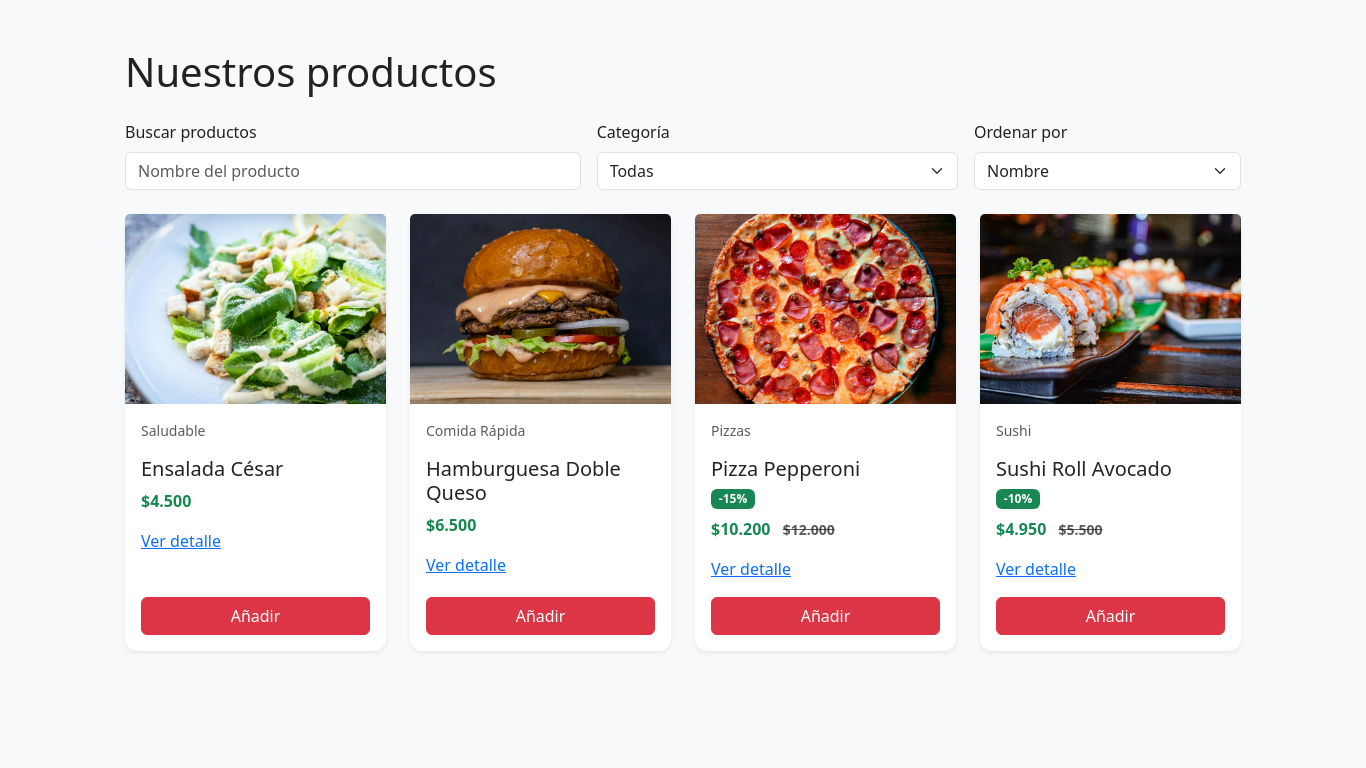
it: Componentes React: renderizado, props, estado y eventos › añadir un producto guarda una línea de carrito
This screenshot has width=1366, height=768.
Click the button "Añadir" below "$4.500" at (256, 616), box left=141, top=597, right=370, bottom=635
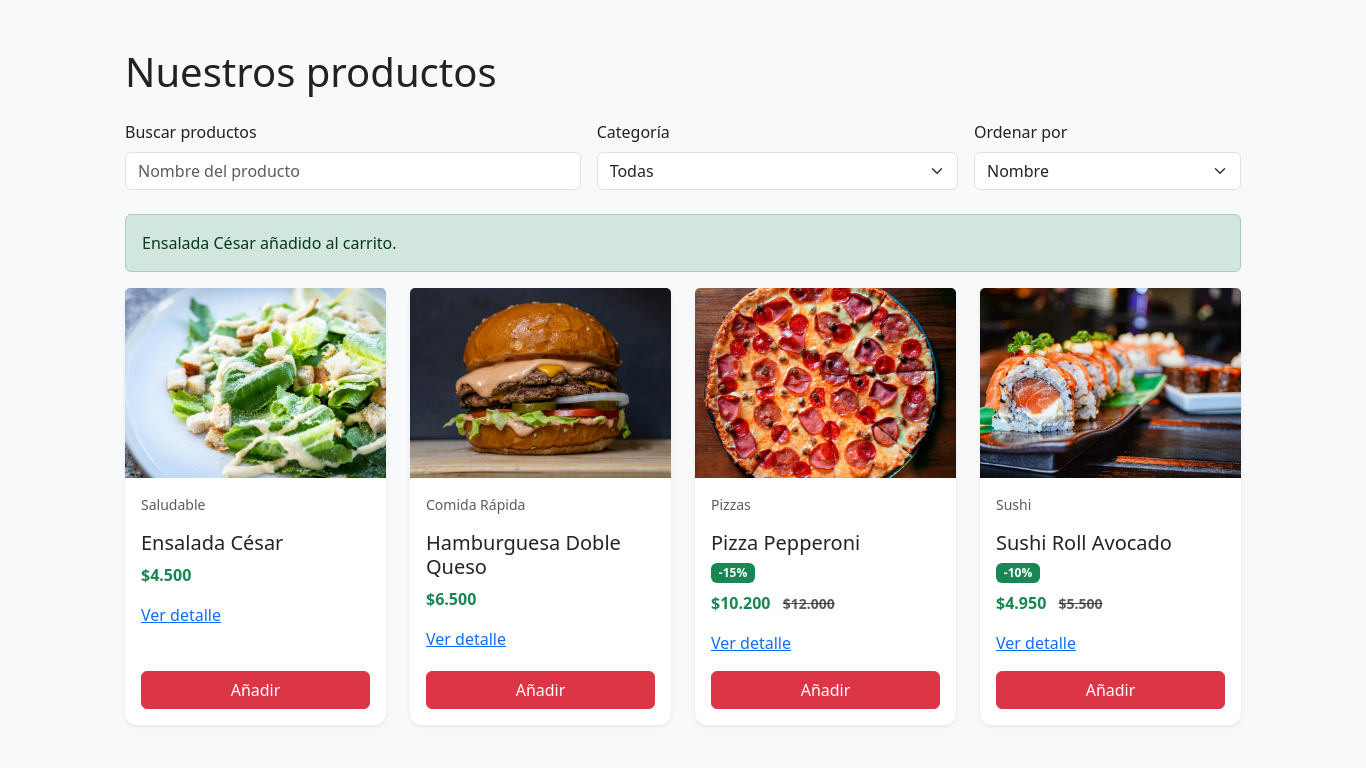
Expected: the message shows "añadido", left=142, top=232, right=396, bottom=254
